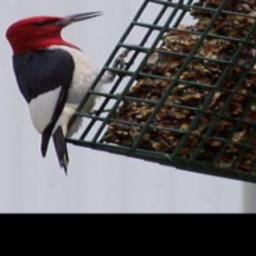Woodpecker: (3, 10, 131, 175)
